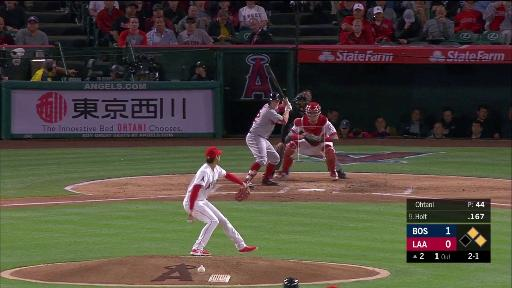pitcher: (184, 146, 259, 256)
